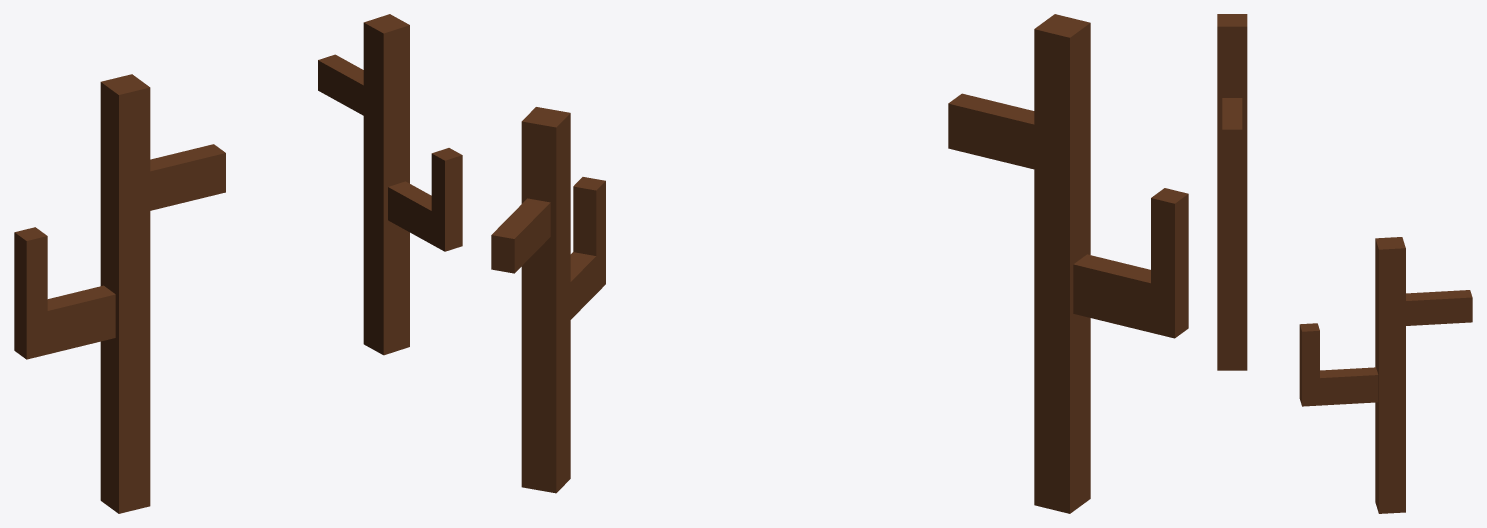
The model's file is DeadTreePair.fbx.
3 renders of one model, left to right at view 1: azimuth 30°, elevation 25°; view 2: azimuth 150°, elevation 25°; view 3: azimuth 270°, elevation 25°, orthographic. The views are drawn at different scales.
Visible parts, largest first — view 1: DeadTreePair; view 2: DeadTreePair; view 3: DeadTreePair.
Boxes of the visible parts, x1,y1,x2,y2 form: DeadTreePair: (14, 14, 462, 513); DeadTreePair: (491, 14, 1188, 513); DeadTreePair: (1217, 14, 1472, 513).
Size of the model in its own units: 60.94 by 50.35 by 33.84.
